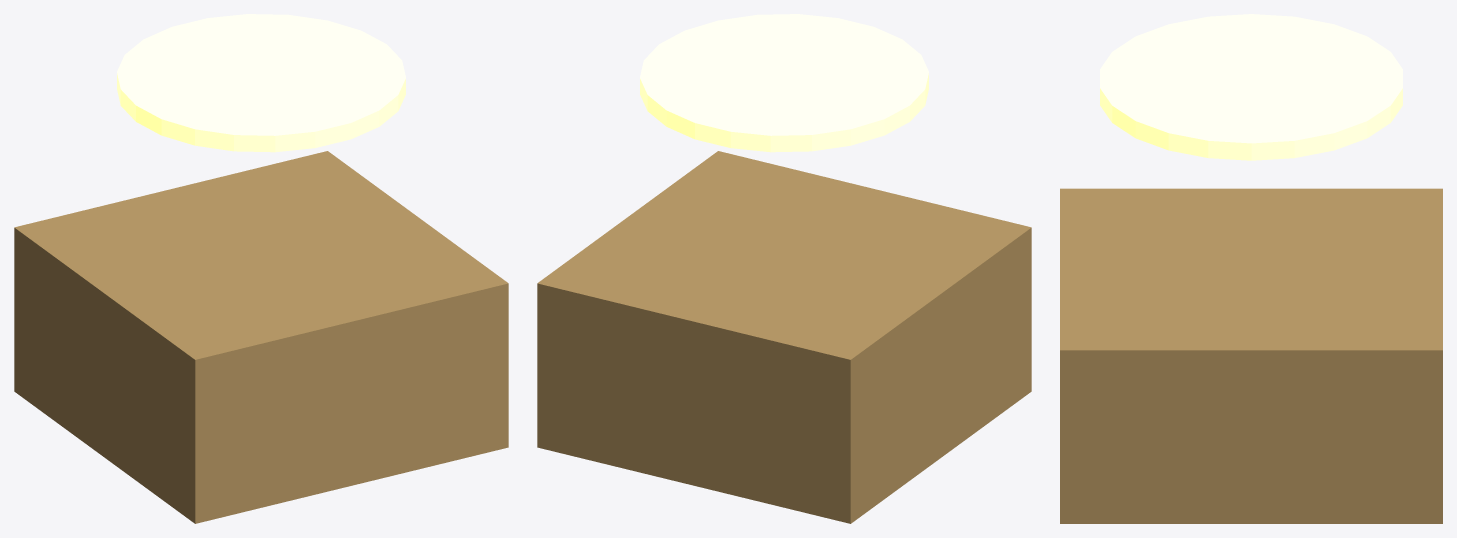
File: TimedPulse_Half.glb
3 views of the same model, side by side, from view 1: azimuth 30°, elevation 25°; view 2: azimuth 150°, elevation 25°; view 3: azimuth 270°, elevation 25° (orthographic). The views are drawn at different scales.
Parts seen in each view (by area): view 1: TimedPulse_Half_body, glow_disc.006; view 2: TimedPulse_Half_body, glow_disc.006; view 3: TimedPulse_Half_body, glow_disc.006.
Boxes of the visible parts, x1,y1,x2,y2 form: TimedPulse_Half_body: (14, 151, 508, 523); glow_disc.006: (117, 14, 405, 152); TimedPulse_Half_body: (537, 151, 1031, 523); glow_disc.006: (640, 14, 928, 152); TimedPulse_Half_body: (1060, 188, 1442, 523); glow_disc.006: (1100, 14, 1402, 160).
Bounding box in the file's own units: 1 × 1.05 × 1.
